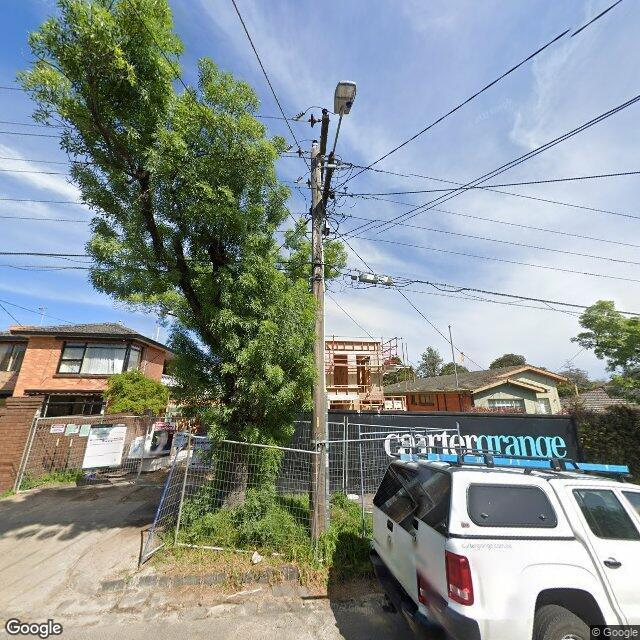HV-transmission: (285, 112, 321, 187)
crossarm: (320, 114, 329, 182), (324, 155, 334, 210)
streetlight: (331, 80, 356, 158)
timber-pole: (311, 148, 328, 540)
